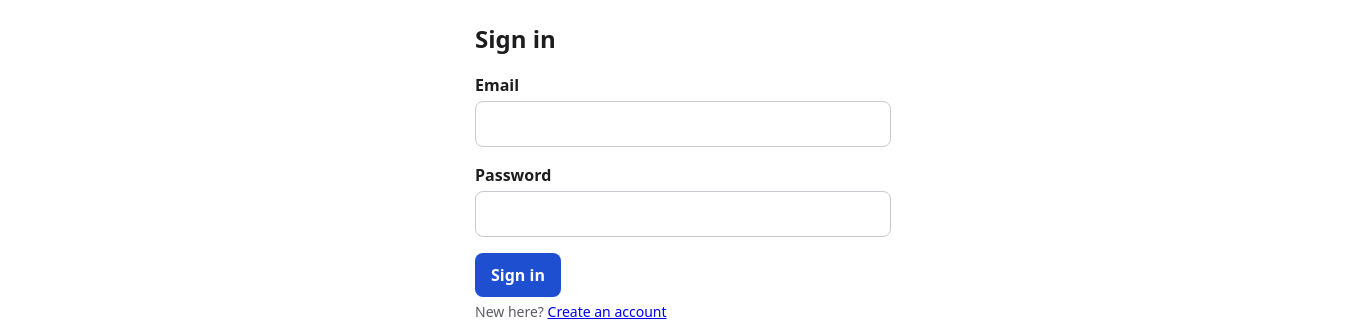
sign-in › signs in and lands on the only business's Home, writing nothing to storage
Expected: the heading "Sign in" is shown, [475,22,556,55]
Type "owner@vashi.example" into the field labelled "Email" at (683, 124), box [475,101,891,147]
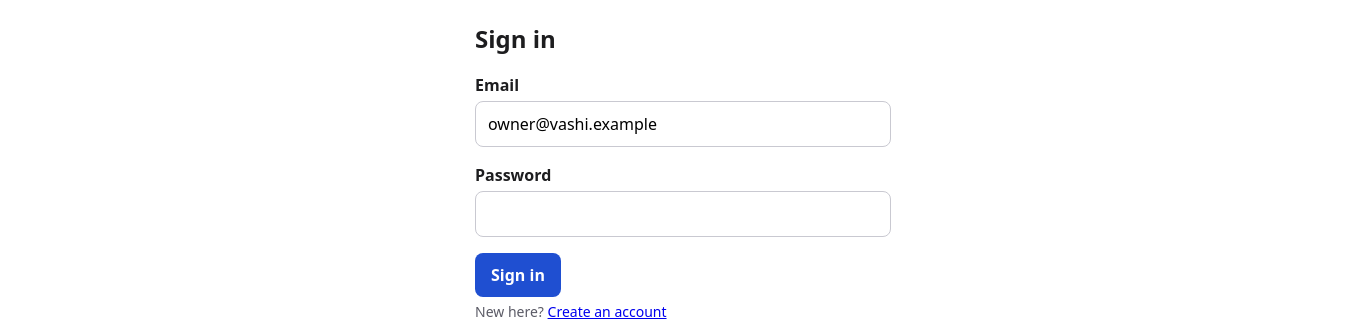
Type "seven lamps under a bridge" into the password field labelled "Password" at (683, 214), box [475,191,891,237]
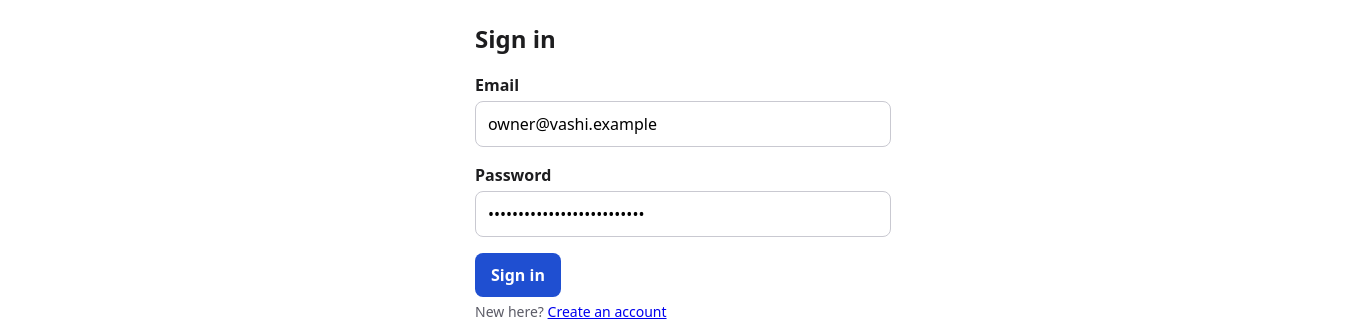
Click the button "Sign in" at (518, 275), box [475,253,561,297]
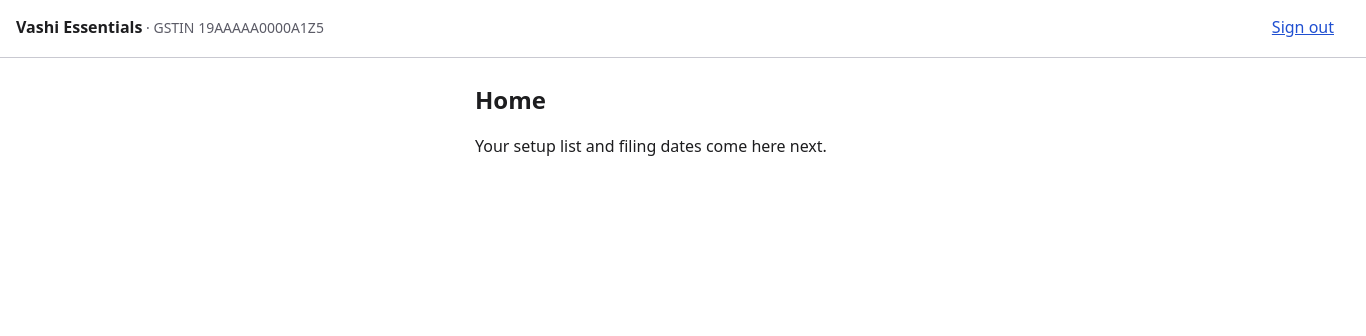
Now the heading "Home" is shown, box [475,83,546,116]
Now the text "Vashi Essentials" is shown, box [16,16,142,38]
